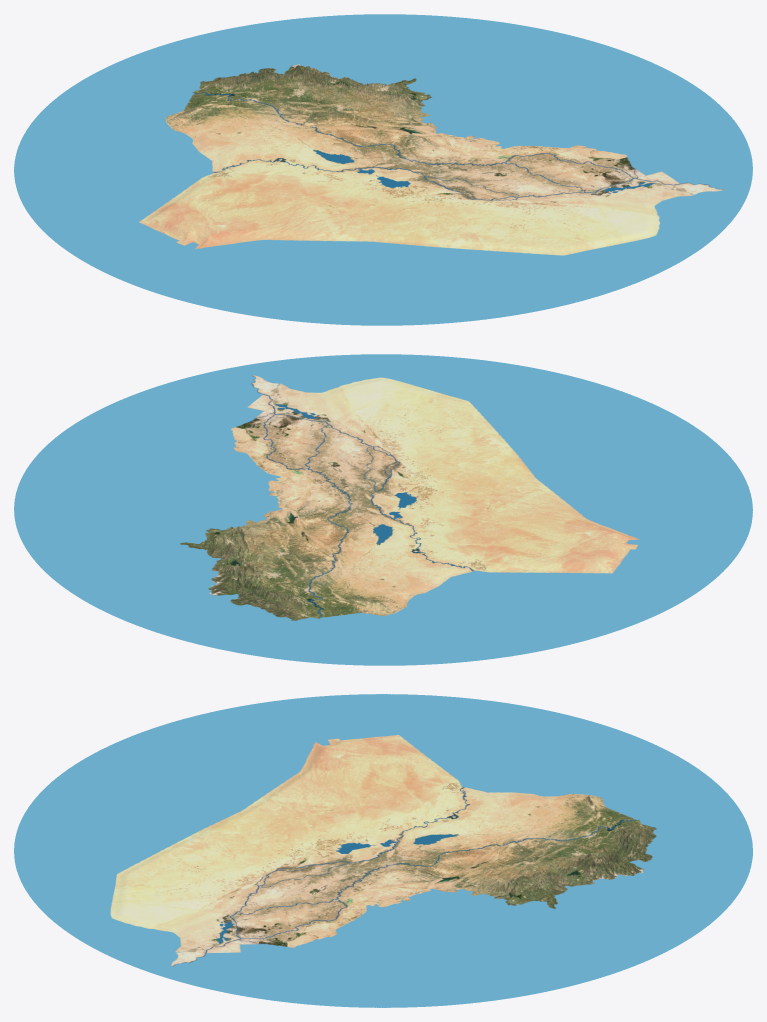
File: IRQ-previa-terrain.glb
3 views of the same model, one above another, from view 1: azimuth 30°, elevation 25°; view 2: azimuth 150°, elevation 25°; view 3: azimuth 270°, elevation 25° (orthographic).
Parts seen in each view (by area): view 1: Iraque; view 2: Iraque; view 3: Iraque.
Part boxes in pixels (x1,y1,x2,y2): Iraque: (14, 14, 752, 325); Iraque: (14, 354, 752, 665); Iraque: (14, 694, 752, 1007).
Size of the model in its own units: 2.38 by 0.0471 by 2.37.
1 material, 1 textured.
